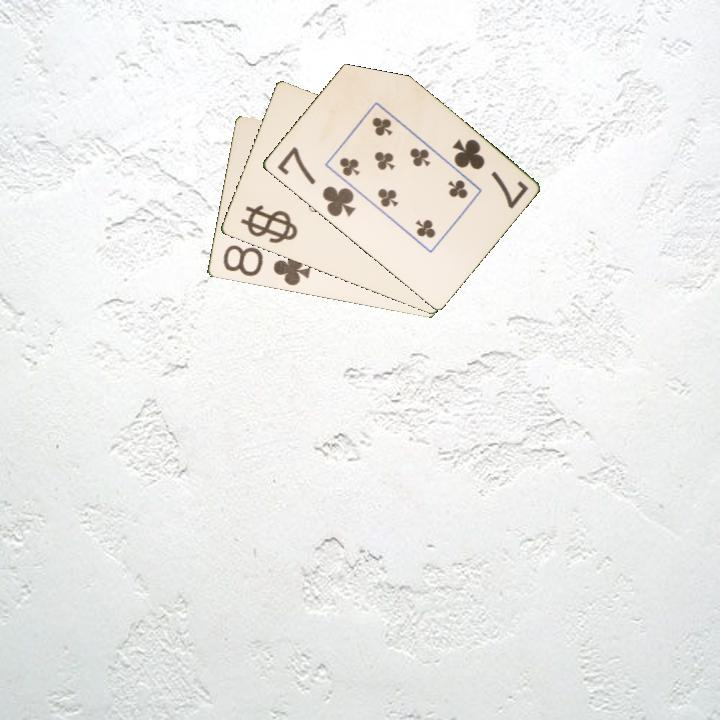7c: (273, 143, 358, 220), (448, 135, 531, 212)
8c: (219, 241, 313, 289)
JK: (247, 210, 296, 240)
